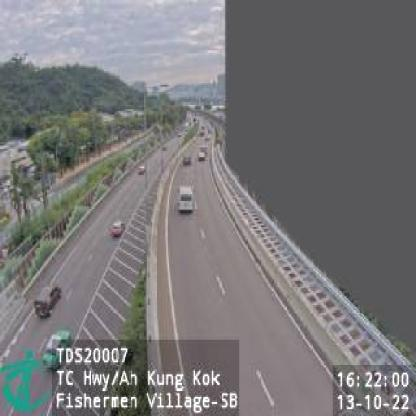Car: (42, 327, 72, 370), (32, 281, 62, 320), (177, 186, 194, 214), (111, 219, 126, 240), (137, 162, 146, 174), (197, 147, 205, 160), (182, 154, 191, 165)
